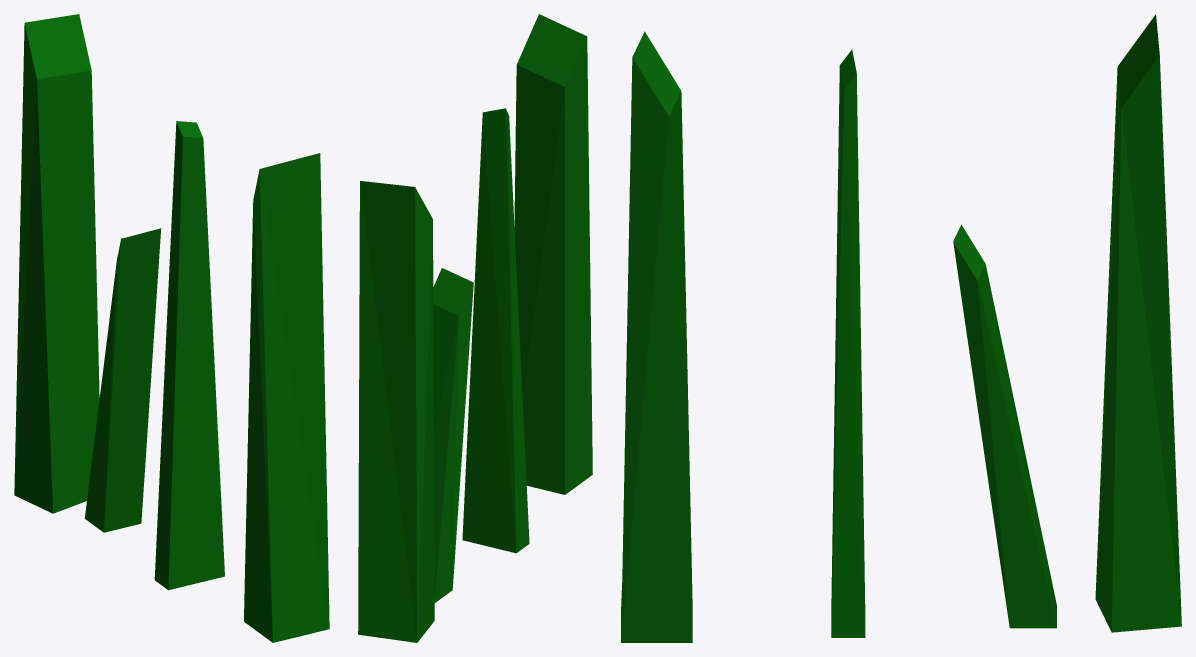
The model's file is grass.fbx.
The picture shows the model from 3 angles, left to right: view 1: azimuth 30°, elevation 25°; view 2: azimuth 150°, elevation 25°; view 3: azimuth 270°, elevation 25°; orthographic projection. The views are drawn at different scales.
Visible parts, largest first — view 1: Grass; view 2: Grass; view 3: Grass.
Boxes of the visible parts, x1=… form: Grass: x1=14, y1=14, x2=329, y2=642; Grass: x1=358, y1=14, x2=592, y2=642; Grass: x1=621, y1=14, x2=1181, y2=642.
Size of the model in its own units: 73.07 by 343 by 295.
